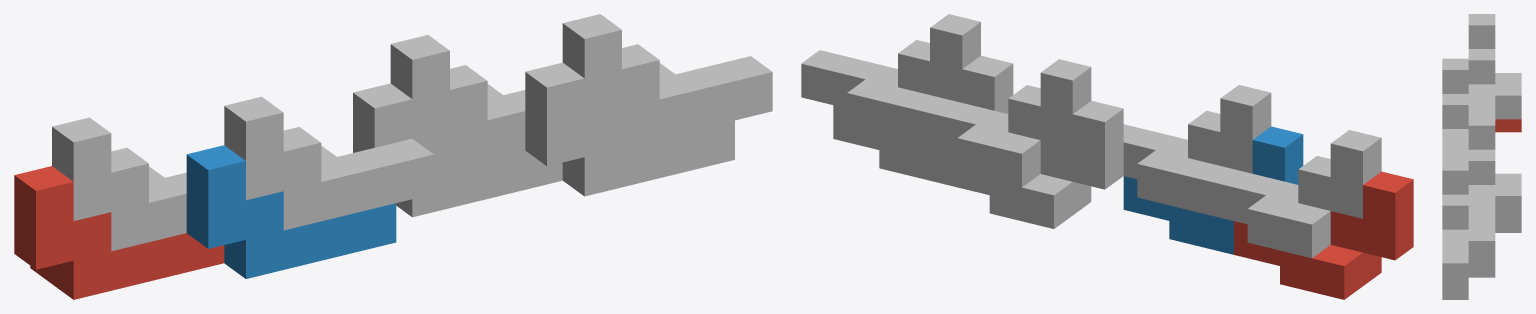
Rendered from tiling.obj.
3 renders of one model, left to right at view 1: azimuth 30°, elevation 25°; view 2: azimuth 150°, elevation 25°; view 3: azimuth 270°, elevation 25°, orthographic. The views are drawn at different scales.
Parts seen in each view (by area): view 1: copy_1_domain_8, copy_1_domain_4, copy_1_domain_2, copy_1_domain_6, copy_1_domain_1, copy_1_domain_7, copy_1_domain_3, copy_1_domain_5; view 2: copy_1_domain_7, copy_1_domain_3, copy_1_domain_8, copy_1_domain_4, copy_1_domain_5, copy_1_domain_1, copy_1_domain_2, copy_1_domain_6; view 3: copy_1_domain_8, copy_1_domain_7, copy_1_domain_3, copy_1_domain_4, copy_1_domain_6, copy_1_domain_1, copy_1_domain_5.
Part boxes in pixels (x1,y1,x2,y2): copy_1_domain_8: (562,14,772,147); copy_1_domain_4: (224,96,433,230); copy_1_domain_2: (186,145,396,278); copy_1_domain_6: (525,62,734,196); copy_1_domain_1: (14,166,224,299); copy_1_domain_7: (390,35,525,168); copy_1_domain_3: (52,117,186,251); copy_1_domain_5: (353,83,562,217); copy_1_domain_7: (911,59,1091,187); copy_1_domain_3: (1201,130,1381,258); copy_1_domain_8: (801,14,980,142); copy_1_domain_4: (1123,85,1271,212); copy_1_domain_5: (943,100,1123,228); copy_1_domain_1: (1234,171,1413,299); copy_1_domain_2: (1123,126,1303,254); copy_1_domain_6: (833,55,1013,183); copy_1_domain_8: (1442,159,1495,287); copy_1_domain_7: (1468,114,1521,219); copy_1_domain_3: (1468,14,1521,119); copy_1_domain_4: (1442,58,1468,159); copy_1_domain_6: (1442,265,1495,299); copy_1_domain_1: (1495,119,1521,132); copy_1_domain_5: (1495,220,1521,232).
Bounding box in the file's own units: 19 × 4 × 3.
